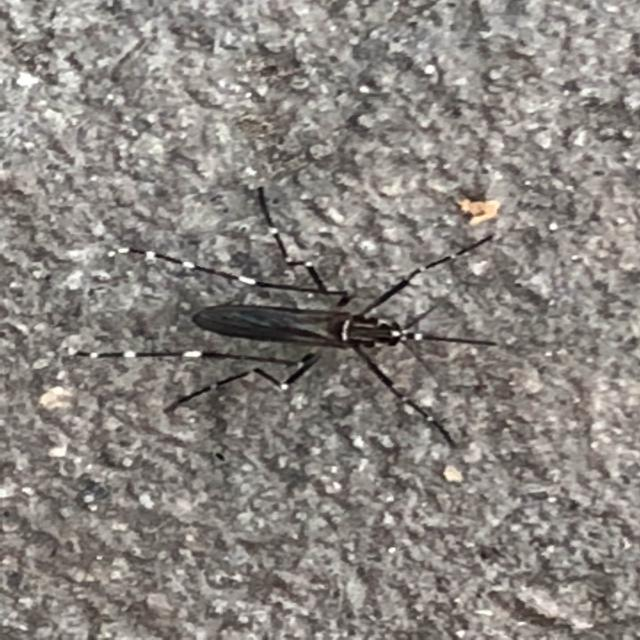aegypti: (46, 164, 523, 464)
